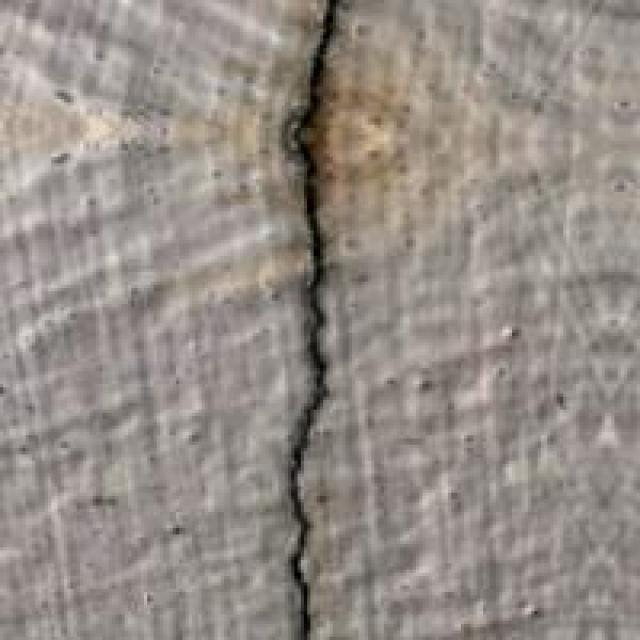crack: (250, 0, 380, 640)
